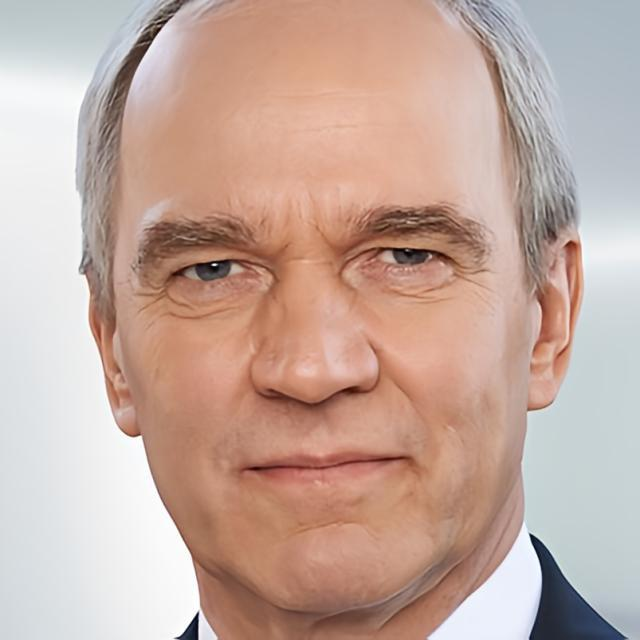content: (112, 0, 532, 619)
